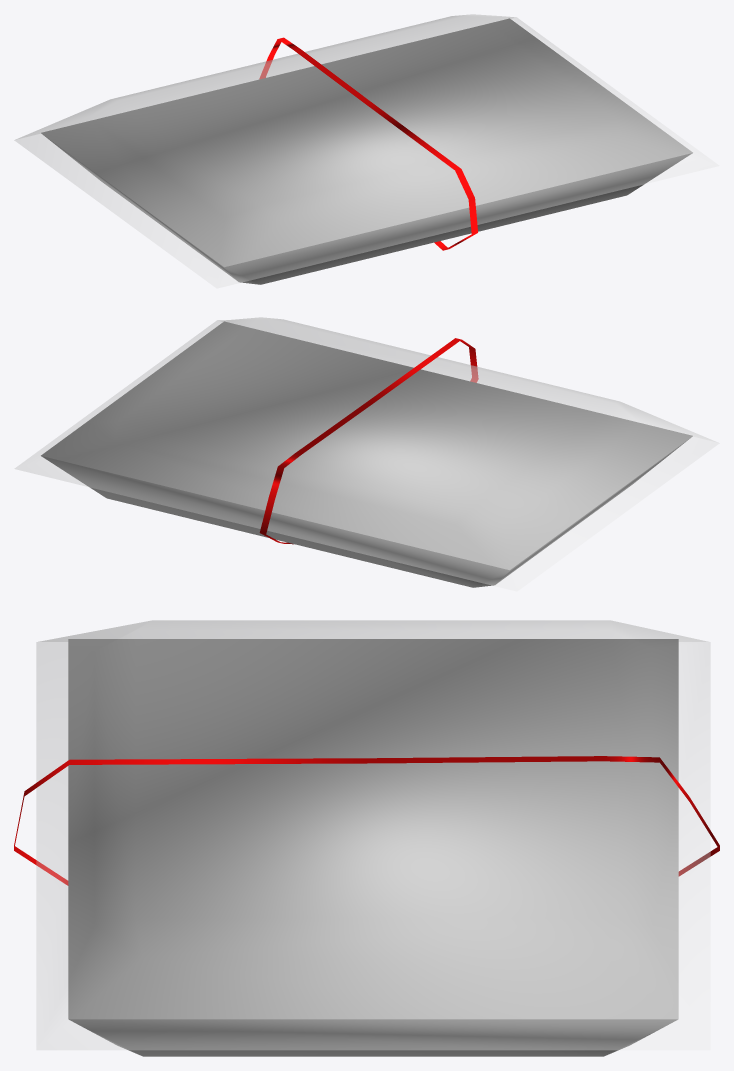
The model's file is bento2.fbx.
3 renders of one model, top to bottom at view 1: azimuth 30°, elevation 25°; view 2: azimuth 150°, elevation 25°; view 3: azimuth 270°, elevation 25°, orthographic. The views are drawn at different scales.
Parts seen in each view (by area): view 1: bento_futa.001, bento.001, gomu.001; view 2: bento_futa.001, bento.001, gomu.001; view 3: bento_futa.001, bento.001, gomu.001.
Part boxes in pixels (x1,y1,x2,y2): bento_futa.001: (14, 14, 719, 288); bento.001: (41, 18, 692, 284); gomu.001: (259, 37, 477, 250); bento_futa.001: (14, 317, 719, 591); bento.001: (41, 321, 692, 587); gomu.001: (259, 338, 478, 544); bento_futa.001: (36, 620, 710, 1049); bento.001: (68, 639, 678, 1056); gomu.001: (14, 756, 719, 885).
Size of the model in its own units: 366 by 63.46 by 267.
